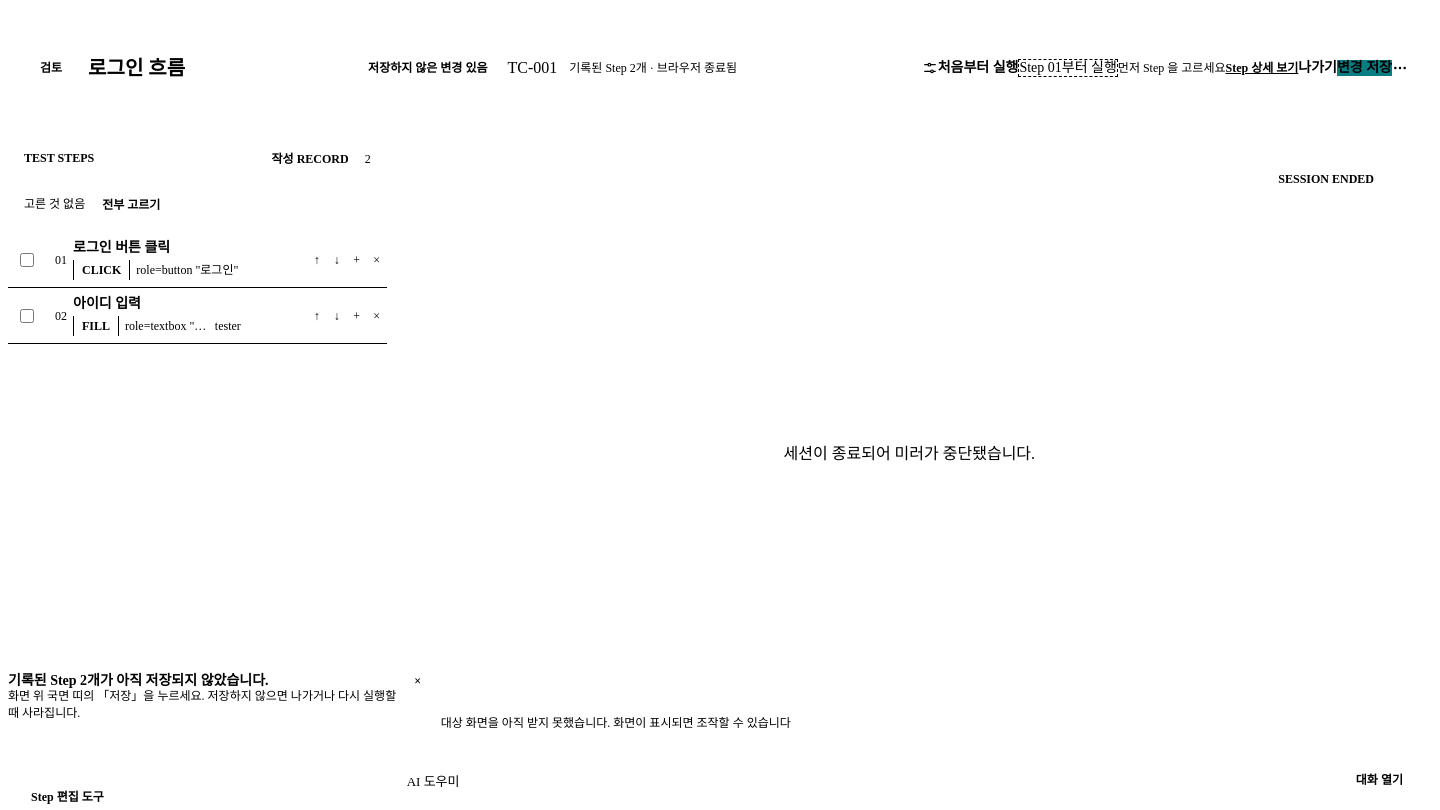
Test: UC-011-5 — 확인 대화상자의 이름칸은 조건부다 › 다시 실행 확인은 이름을 묻지 않는다
The image size is (1440, 810).
Click the button "처음부터 실행": (978, 68) x1=938 y1=60 x2=1018 y2=76
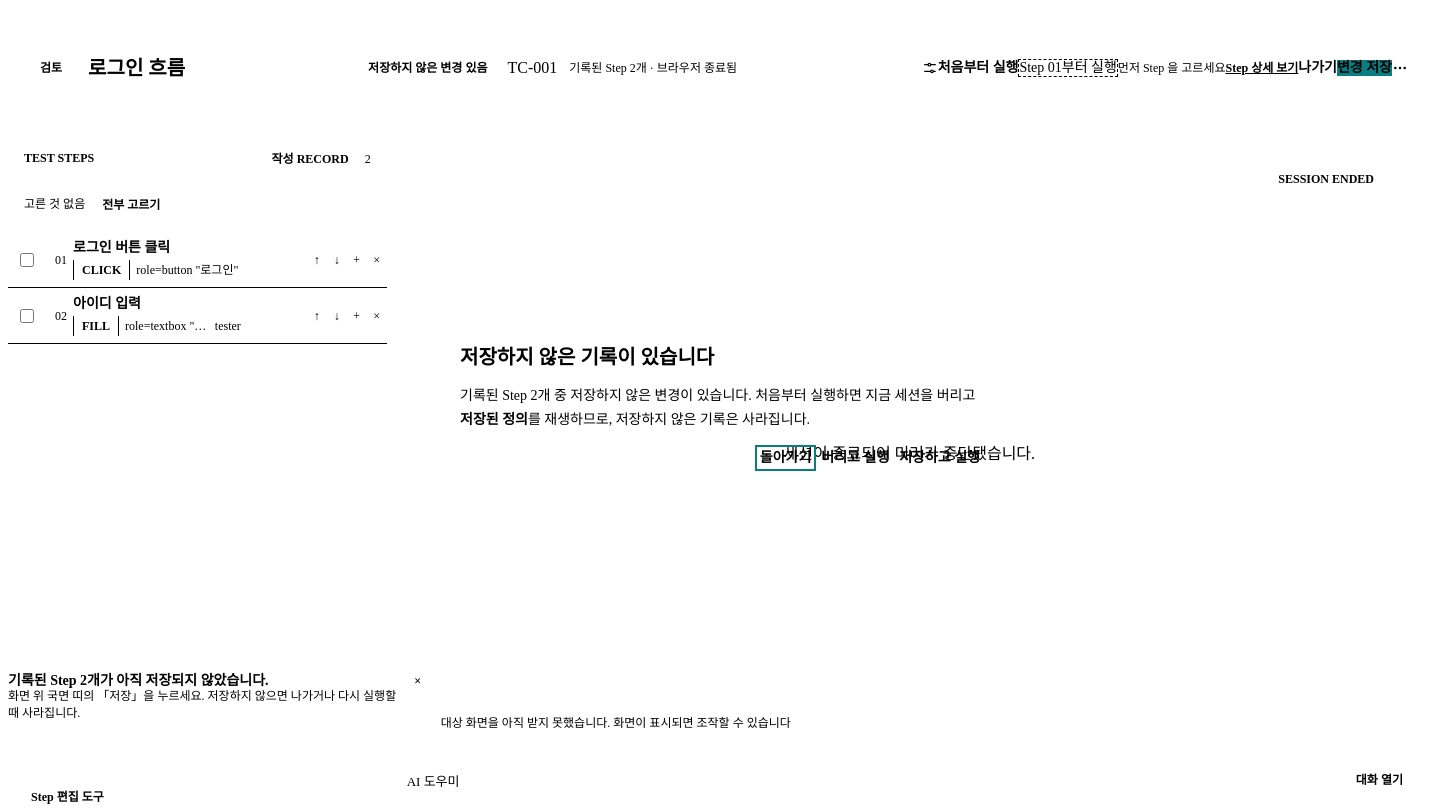
expect the heading "저장하지 않은 기록이 있습니다" is shown: met, box x1=460 y1=346 x2=714 y2=368
expect the button "저장하고 실행" is shown: met, box x1=899 y1=450 x2=980 y2=466
